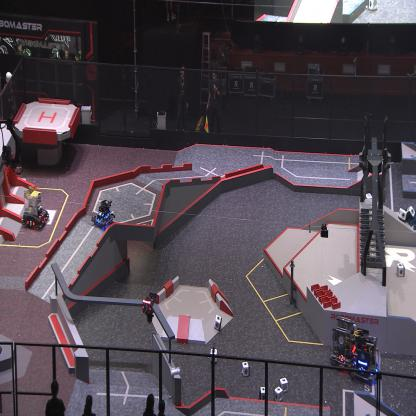car: (350, 327, 380, 383), (330, 315, 356, 372), (21, 184, 50, 231), (91, 197, 116, 231)
